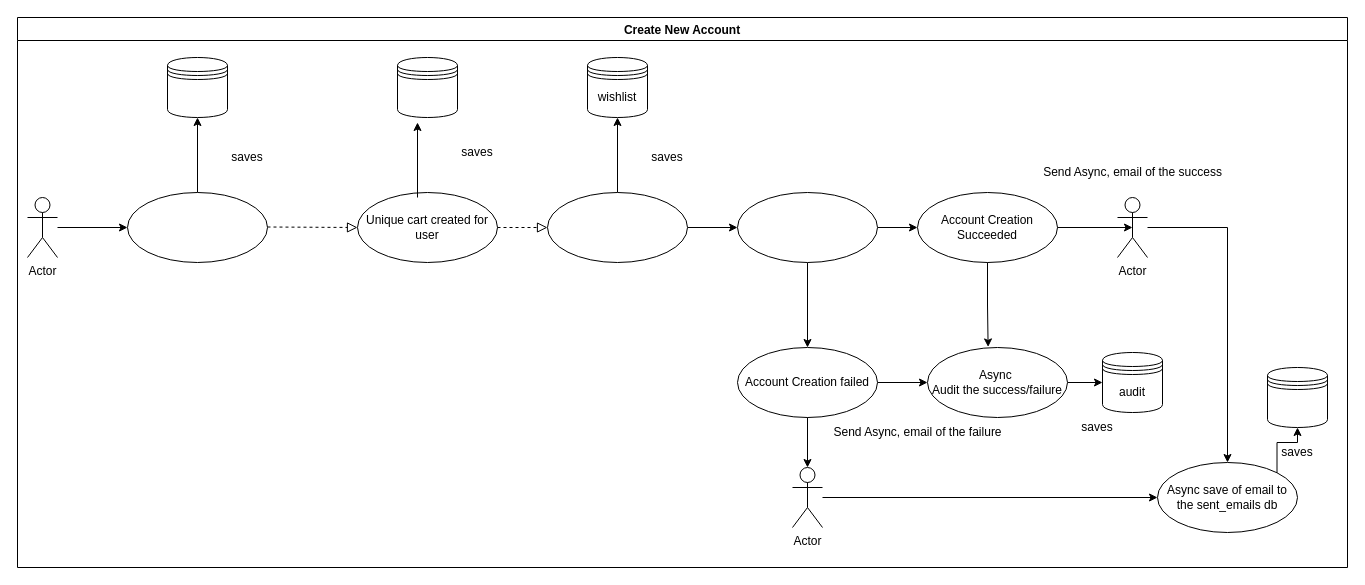
Some shapes in this 1365 by 585 pixel diagram are drawn without their labels. Here are the shapes that lost their labels. From the top down, the box of each, then its label:
(166, 56, 228, 118): Customers
(396, 56, 458, 118): Cart
(126, 192, 268, 262): Creates new Account
(546, 192, 688, 262): Unique wishlist created for customer
(736, 192, 878, 262): Account Creation finalized
(1266, 366, 1328, 428): sent_email
